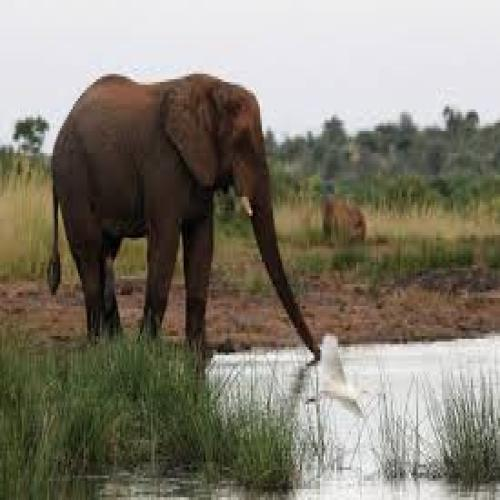asian_elephant-endangered: (44, 69, 322, 366)
